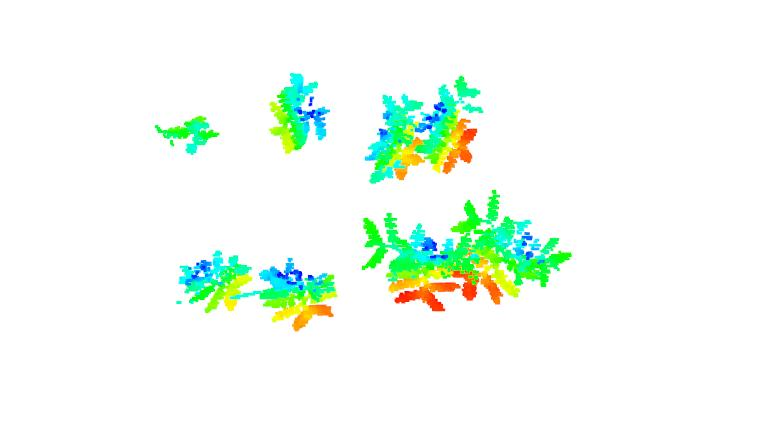chickpea: (450, 191, 574, 302), (357, 214, 459, 312), (423, 74, 486, 174), (259, 258, 337, 331), (267, 70, 331, 154), (368, 94, 425, 187), (180, 250, 252, 314), (155, 117, 221, 154)
